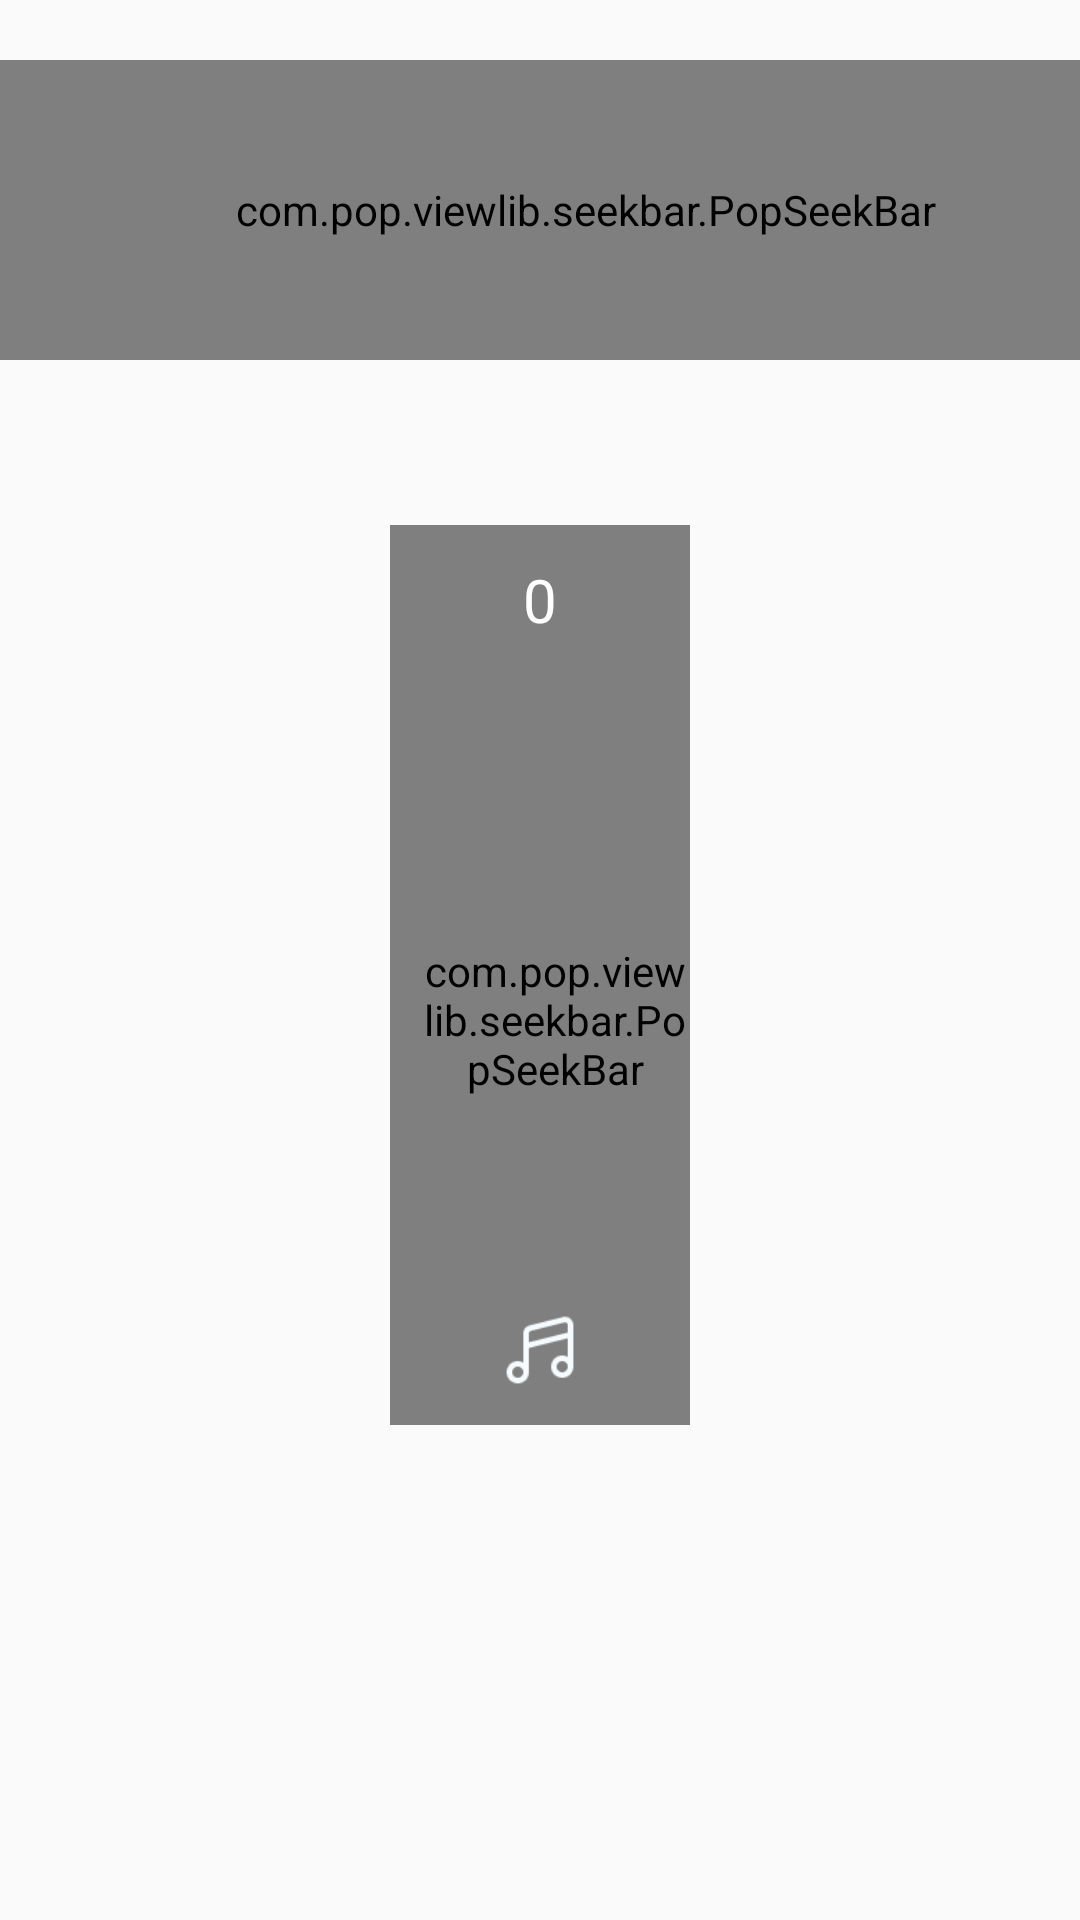

Where to tap for icons on this 1080w x 1920h app screen, as (x=x, y=y):
navigation media: (x=540, y=1350)
